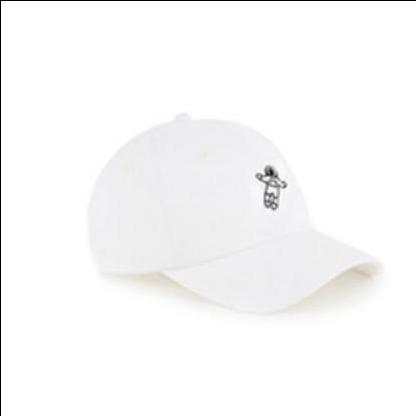cap: (67, 103, 399, 322)
